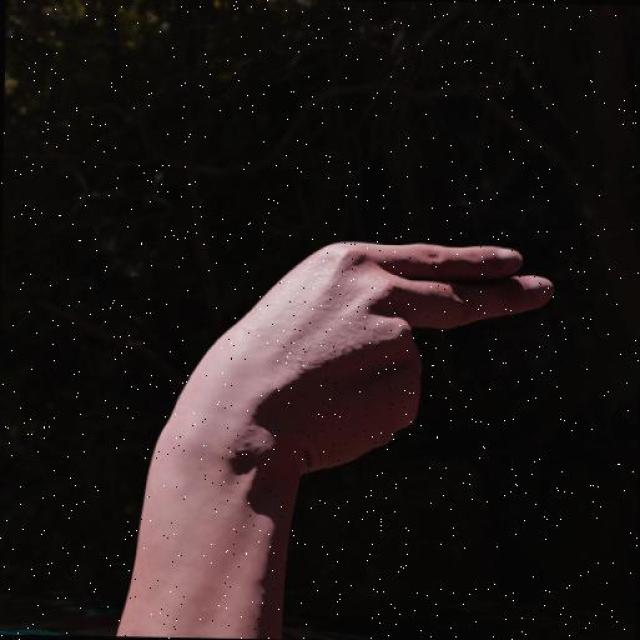H: (173, 234, 566, 465)
